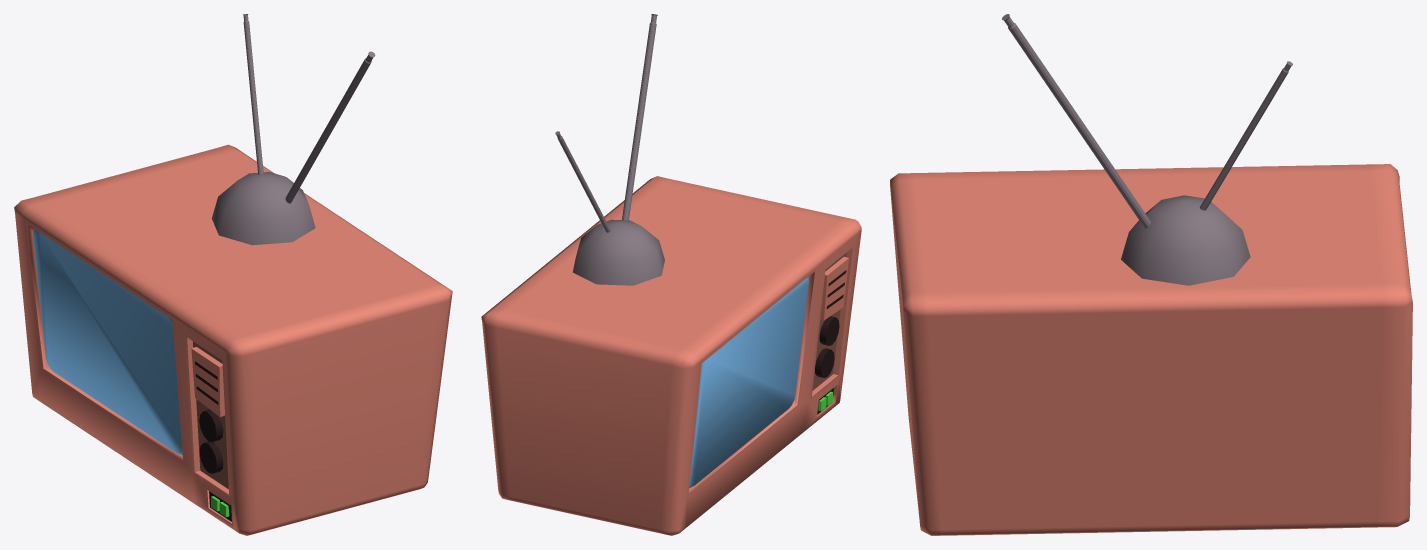
3 renders of one model, left to right at view 1: azimuth 30°, elevation 25°; view 2: azimuth 150°, elevation 25°; view 3: azimuth 270°, elevation 25°, orthographic. The views are drawn at different scales.
Parts seen in each view (by area): view 1: Cube.011; view 2: Cube.011; view 3: Cube.011.
Boxes of the visible parts, x1,y1,x2,y2 form: Cube.011: (14, 14, 452, 535); Cube.011: (481, 14, 861, 535); Cube.011: (890, 14, 1412, 535).
Bounding box in the file's own units: 33.49 × 55.1 × 51.12.
